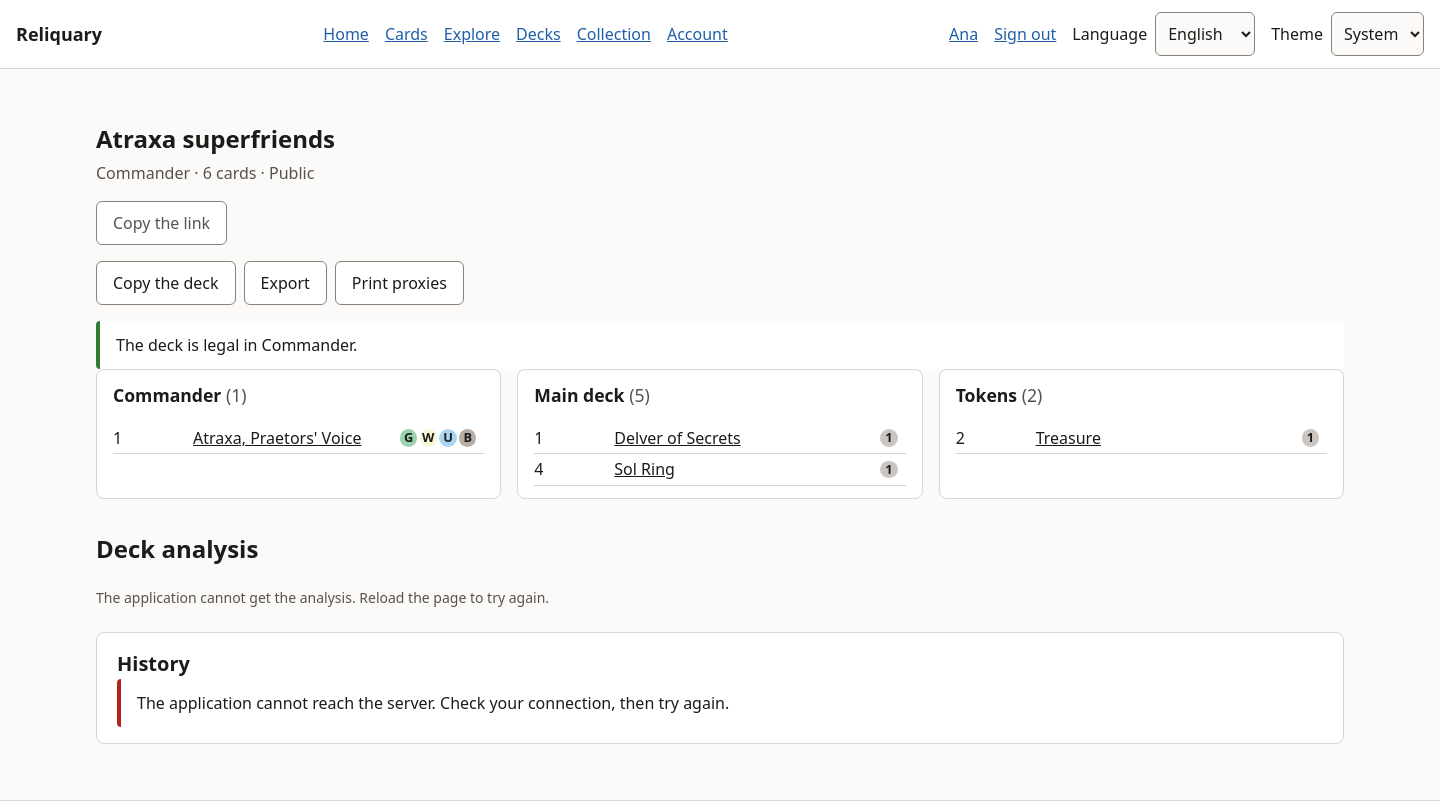
Scenario: proxy dialog › prints all the cards of the deck for a user who is not the owner, with the quantities and the tokens zone
Step 1. Click the button "Print proxies" → (399, 283), box [335,261,464,305]
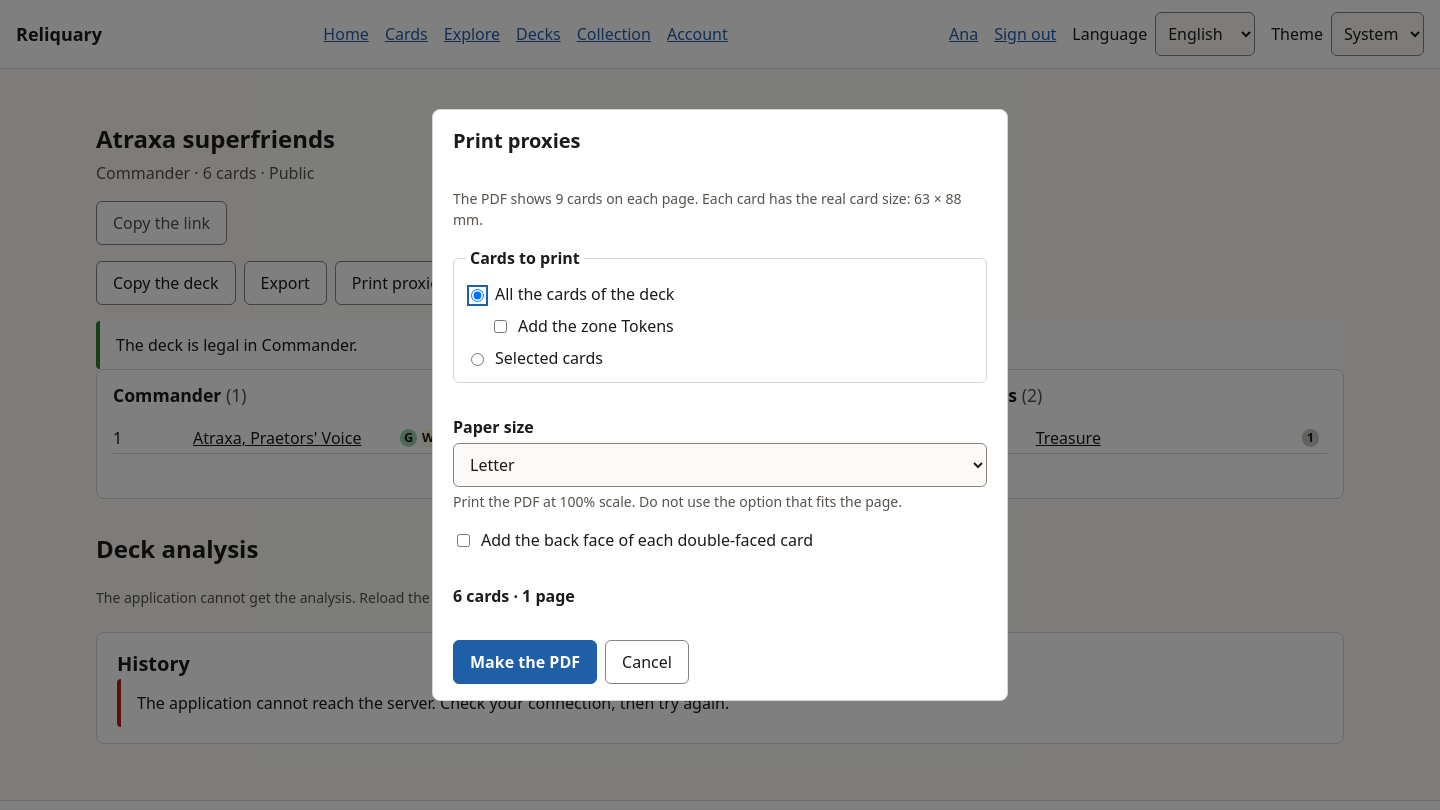
Expected: the dropdown labelled "Paper size" shows "Letter", [453,443,987,487]
Expected: the text "6 cards · 1 page" is shown, [453,585,575,607]
Step 2. Click the checkbox labelled "Add the zone Tokens" → (500, 326), box [494,320,507,333]
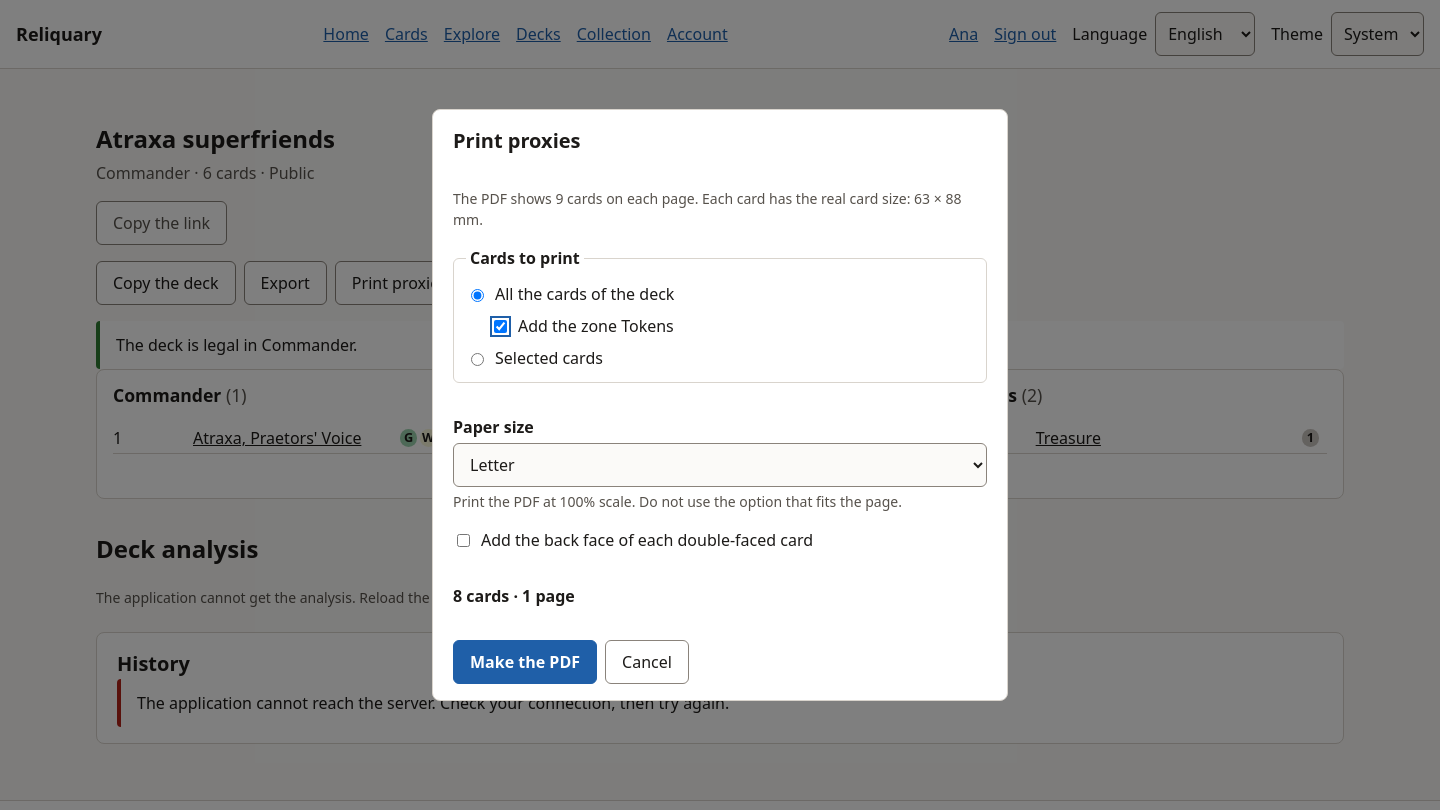
Expected: the text "8 cards · 1 page" is shown, [453,585,575,607]
Step 3. Click the button "Make the PDF" → (525, 662), box [453,640,597,684]
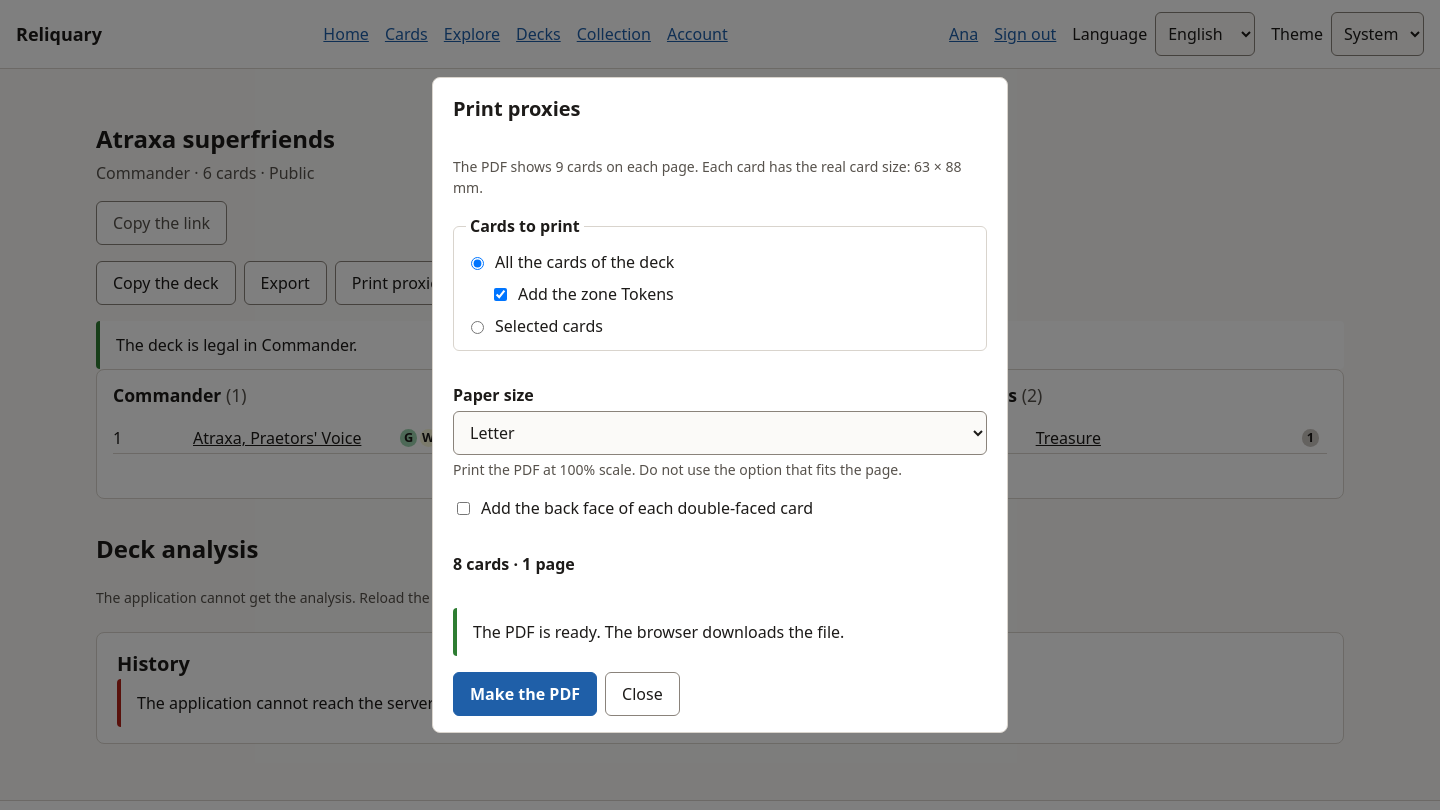
Expected: the text "The PDF is ready. The browser downloads the file." is shown, [453,608,987,656]
